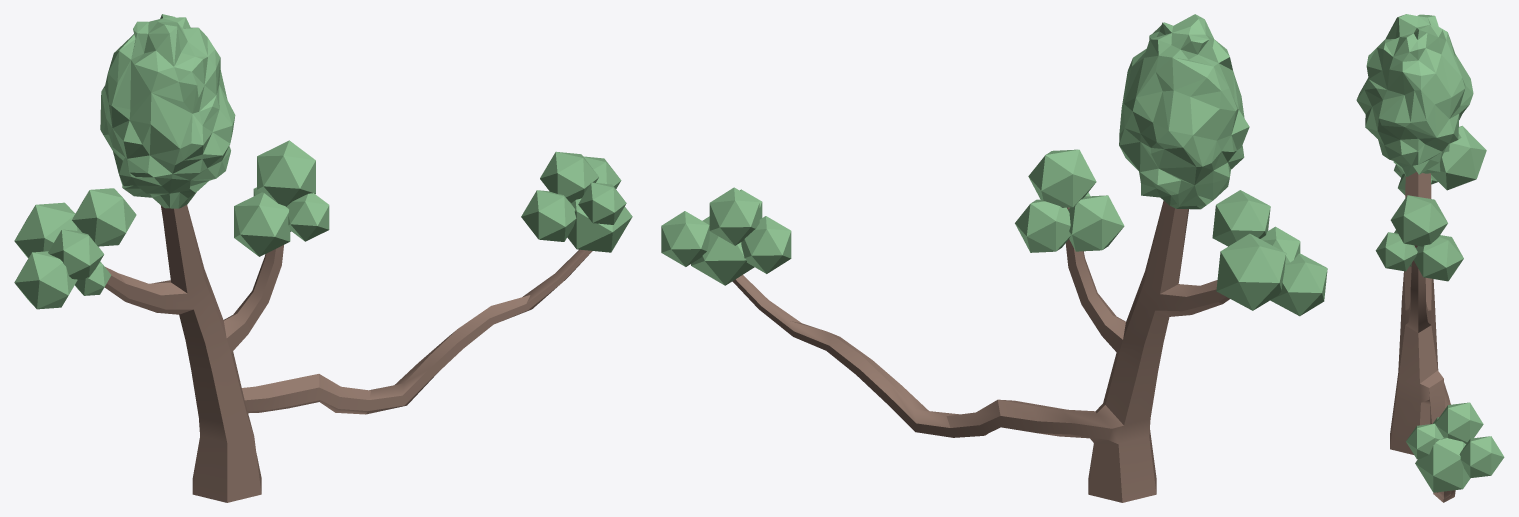
The model's file is Tembusu Tree.fbx.
The picture shows the model from 3 angles, left to right: view 1: azimuth 30°, elevation 25°; view 2: azimuth 150°, elevation 25°; view 3: azimuth 270°, elevation 25°; orthographic projection. The views are drawn at different scales.
Parts seen in each view (by area): view 1: pPlatonic29; view 2: pPlatonic29; view 3: pPlatonic29.
Boxes of the visible parts, bbox=[...] form: pPlatonic29: bbox=[14, 14, 632, 502]; pPlatonic29: bbox=[661, 14, 1327, 502]; pPlatonic29: bbox=[1356, 14, 1504, 502].
Size of the model in its own units: 7.12 by 5.2 by 1.75.
